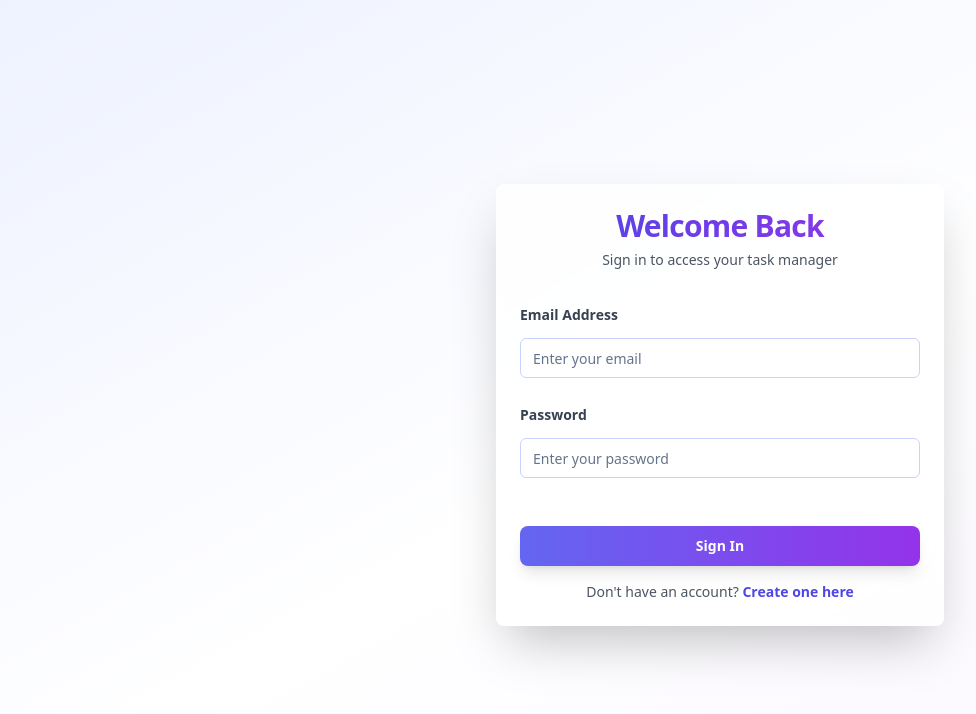
Test: LoginPage › handles login failure
Type "test@example.com" into the field with placeholder "Enter your email" at (720, 358), box [520,338,920,378]
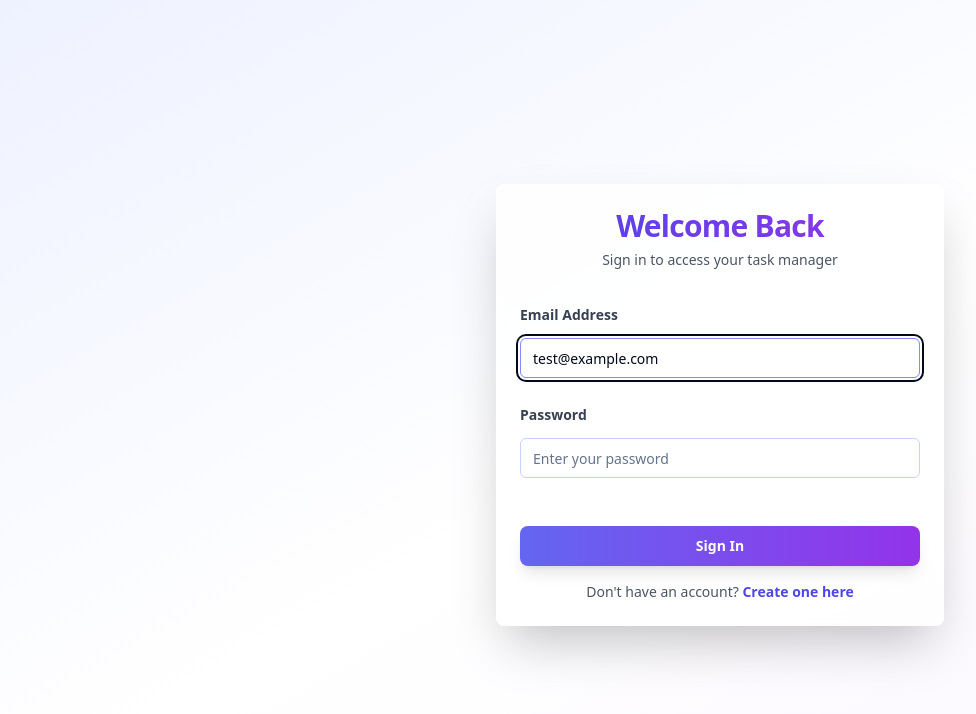
Type "wrongpassword" into the password field with placeholder "Enter your password" at (720, 458), box [520,438,920,478]
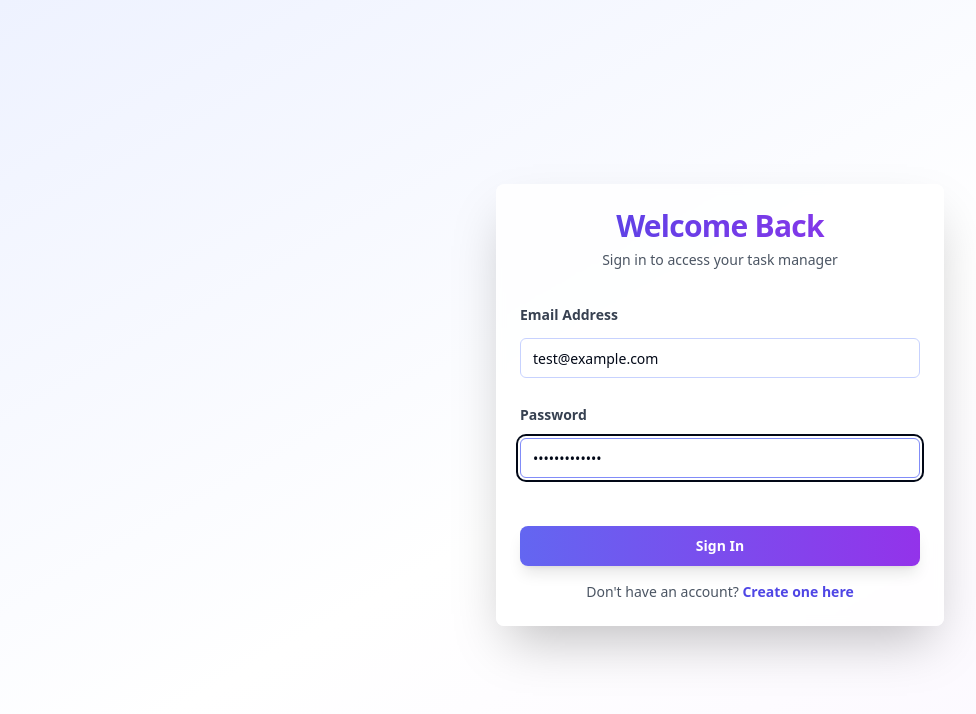
Click the button "Sign In" at (720, 546), box [520,526,920,566]
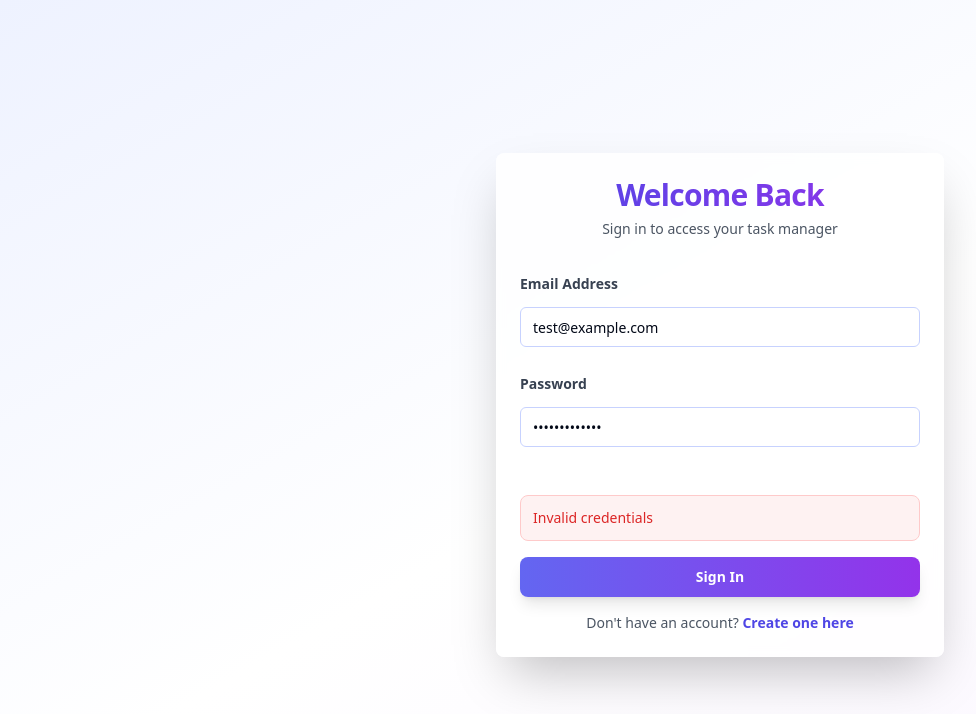
Now the text "Invalid credentials" is shown, box [533,508,653,527]
